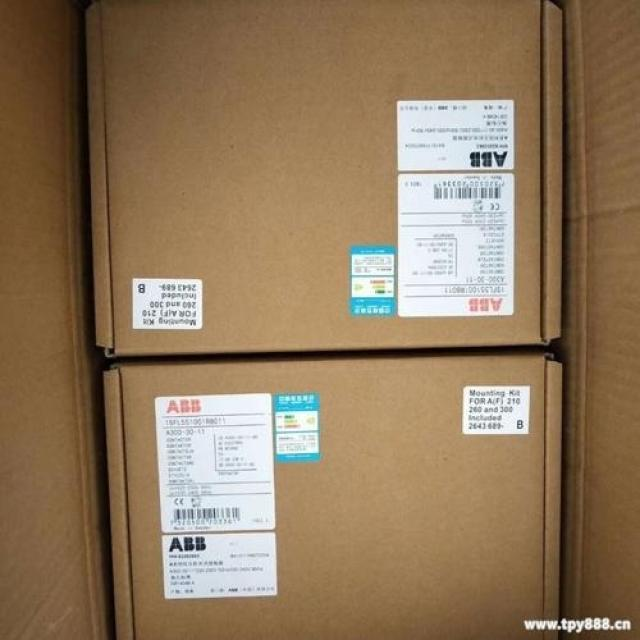box: (85, 0, 563, 357), (102, 353, 563, 639)
